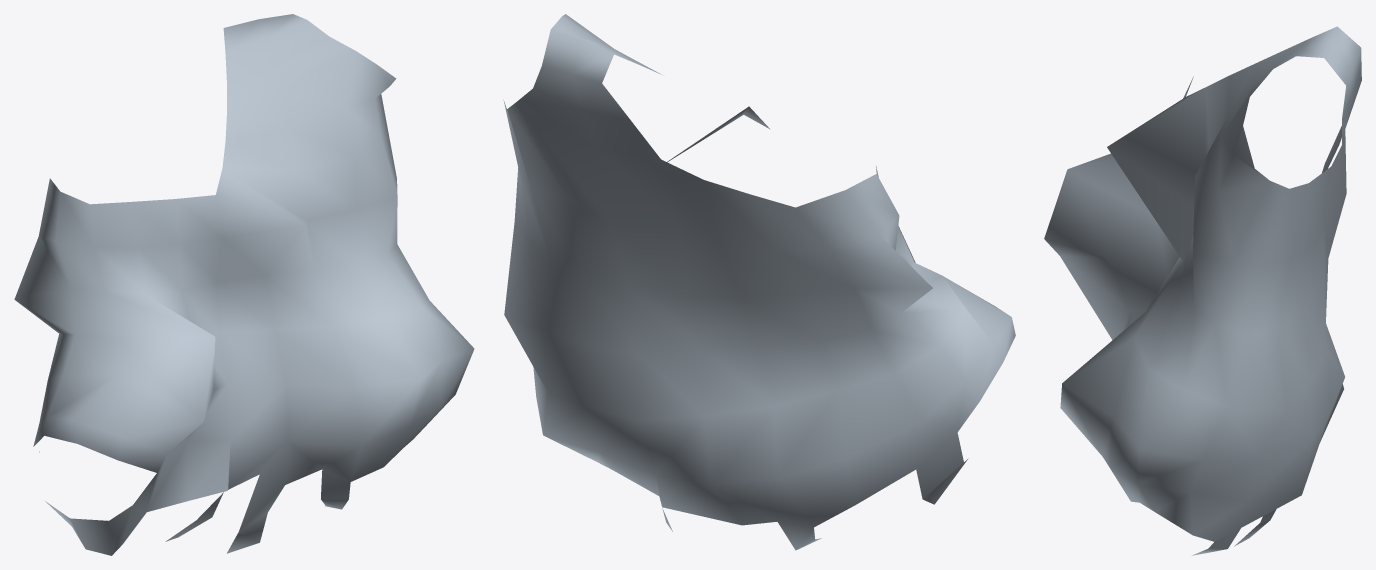
File: articular-capsule-of-radiocarpal-joint-r.glb
The picture shows the model from 3 angles, left to right: view 1: azimuth 30°, elevation 25°; view 2: azimuth 150°, elevation 25°; view 3: azimuth 270°, elevation 25°; orthographic projection. The views are drawn at different scales.
Parts seen in each view (by area): view 1: Articular capsule of radiocarpal joint.r; view 2: Articular capsule of radiocarpal joint.r; view 3: Articular capsule of radiocarpal joint.r.
Boxes of the visible parts, <box> form: Articular capsule of radiocarpal joint.r: <box>14,14,474,555</box>; Articular capsule of radiocarpal joint.r: <box>503,14,1015,550</box>; Articular capsule of radiocarpal joint.r: <box>1044,26,1361,555</box>.
Bounding box in the file's own units: 0.0575 × 0.0621 × 0.0327.
